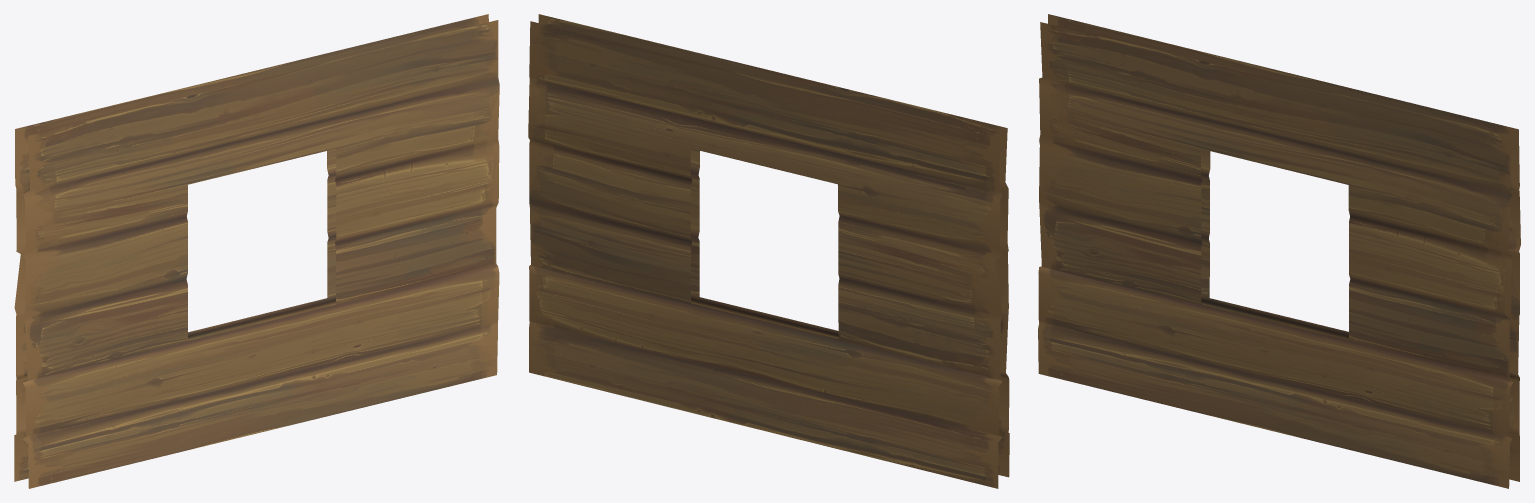
File: SM_MOD_wall_window_planks_hor_town.fbx
3 views of the same model, side by side, from view 1: azimuth 30°, elevation 25°; view 2: azimuth 150°, elevation 25°; view 3: azimuth 330°, elevation 25° (orthographic).
Parts seen in each view (by area): view 1: SM_MOD_wall_window_planks_hor_town; view 2: SM_MOD_wall_window_planks_hor_town; view 3: SM_MOD_wall_window_planks_hor_town.
Boxes of the visible parts, x1,y1,x2,y2 form: SM_MOD_wall_window_planks_hor_town: [14, 14, 499, 488]; SM_MOD_wall_window_planks_hor_town: [528, 14, 1009, 488]; SM_MOD_wall_window_planks_hor_town: [1038, 14, 1520, 488].
Bounding box in the file's own units: 390 × 278 × 18.07.
